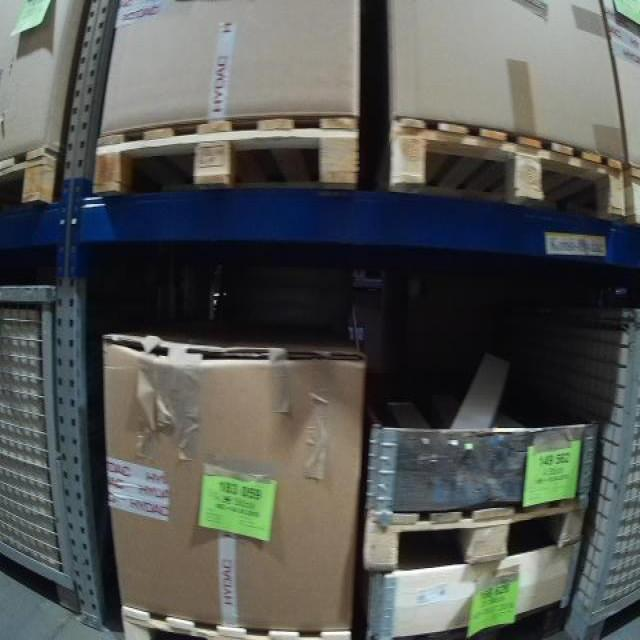pallet: (377, 119, 626, 225), (89, 109, 358, 199), (362, 500, 589, 574), (117, 605, 352, 640), (0, 139, 64, 212)
stillage: (530, 287, 640, 636), (1, 288, 72, 621)
